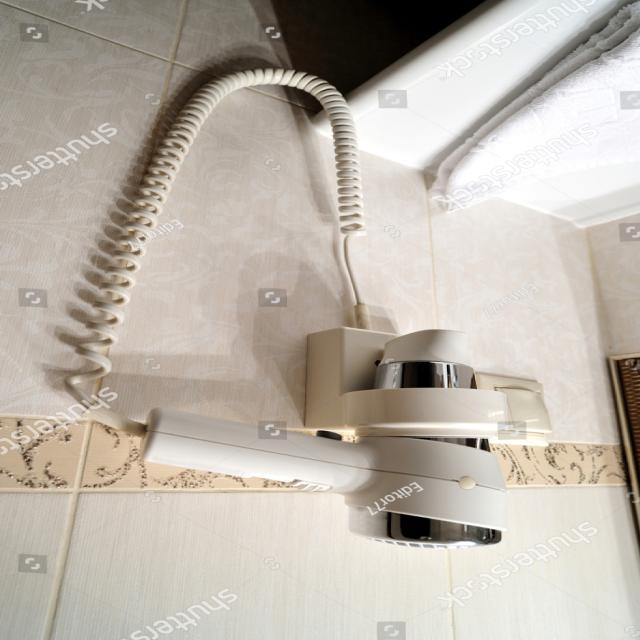dryer: (51, 55, 553, 569), (112, 320, 526, 552)
